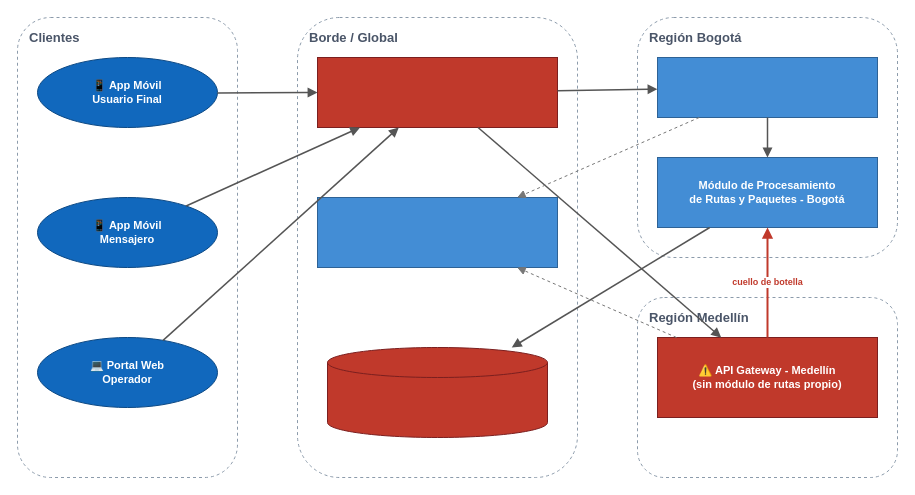
This 915x495 diagram has some shape labels left out. Here are the shapes that lost their labels. From the top down, the centre of each, then its label:
At pixel 437 92: "⚠️ Balanceador de Carga (instancia única)".
At pixel 767 87: "API Gateway Bogotá".
At pixel 437 232: "Servicio de Monitoreo y Alertas".
At pixel 437 392: "⚠️ Base de Datos Distribuida (escritura única - Bogotá)".
